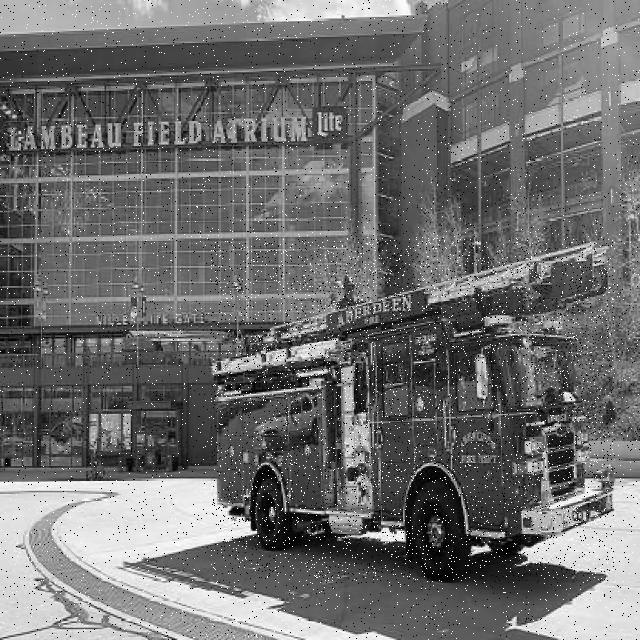Fire Truck: (211, 239, 615, 583)
